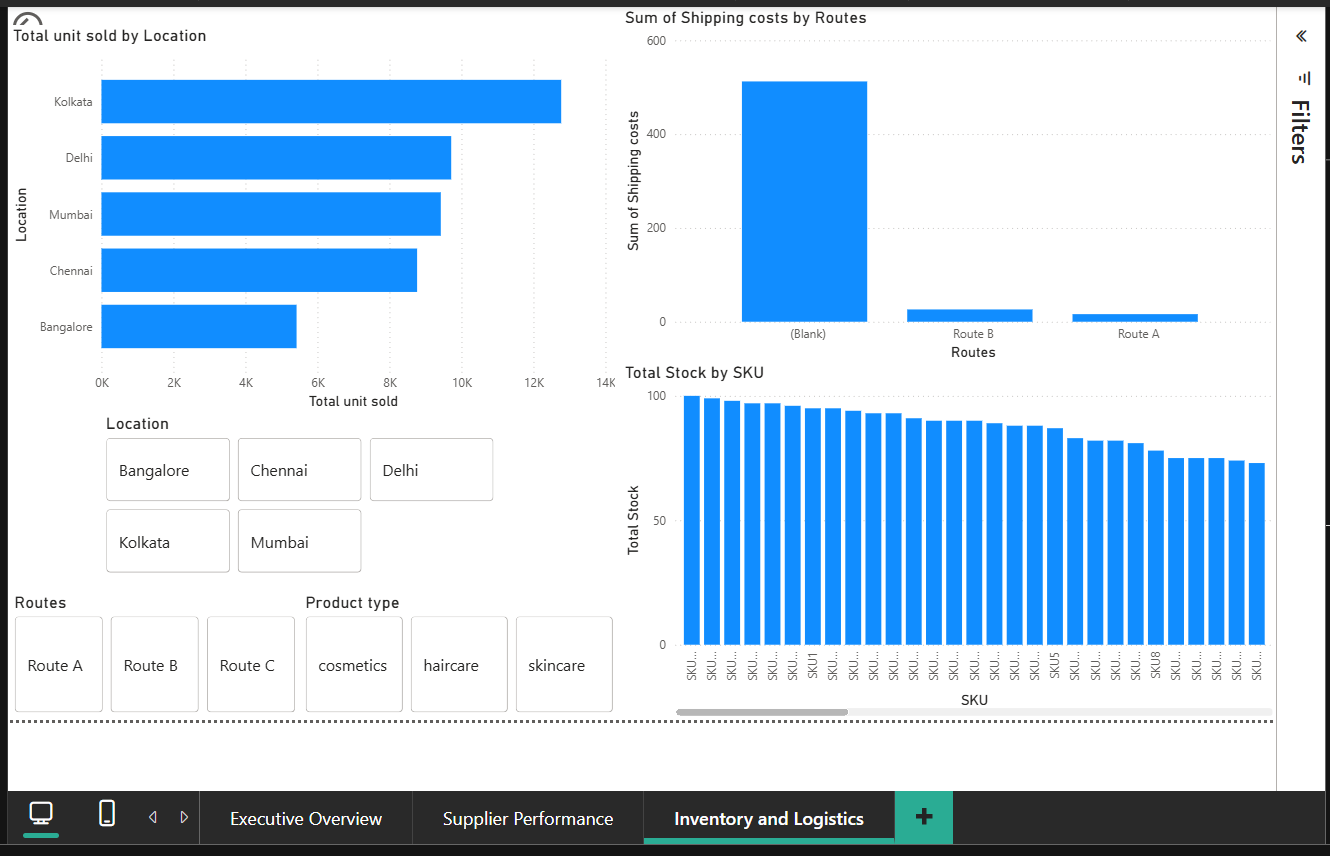

What the dashboard file says about the page in this screenshot:
{"tool":"powerbi","page":{"name":"Inventory and Logistics","canvas":[1280,720],"ordinal":2},"visuals":[{"type":"clusteredColumnChart","fields":{"Category":["Dim_logistics.Routes"],"Y":["Sum(fact_supplychain.Shipping costs)"]},"box":[617.8,0,661.7,360.4],"z":1000},{"type":"clusteredColumnChart","fields":{"Category":["Dim_Product.SKU"],"Y":["fact_supplychain.Total Stock"]},"box":[617.2,358.5,663.9,361.6],"z":2000},{"type":"actionButton","box":[0,0,100,40],"z":3000},{"type":"clusteredBarChart","fields":{"Category":["Dim_location.Location"],"Y":["fact_supplychain.Total unit sold"]},"box":[0,18.2,617.8,392.2],"z":3001},{"type":"advancedSlicerVisual","fields":{"Values":["fact_supplychain.Product type"]},"box":[295.3,590.5,322.5,127.2],"z":3002},{"type":"advancedSlicerVisual","fields":{"Values":["fact_supplychain.Routes"]},"box":[1.5,590.5,293.8,127.2],"z":3003},{"type":"advancedSlicerVisual","fields":{"Values":["fact_supplychain.Location"]},"box":[93.9,410.3,402.8,166.6],"z":3004}]}

Visuals, with their boxes on the page's 1280x720 design canvas (x1, y1, x2, y2). These are canvas units, not pixel positions in the 1330x856 screenshot, which may show the page scaled, cropped or inside an application window:
clusteredColumnChart - Dim_logistics.Routes x Sum(fact_supplychain.Shipping costs): rect(618, 0, 1280, 360)
clusteredColumnChart - Dim_Product.SKU x fact_supplychain.Total Stock: rect(617, 358, 1281, 720)
actionButton: rect(0, 0, 100, 40)
clusteredBarChart - Dim_location.Location x fact_supplychain.Total unit sold: rect(0, 18, 618, 410)
advancedSlicerVisual - fact_supplychain.Product type: rect(295, 590, 618, 718)
advancedSlicerVisual - fact_supplychain.Routes: rect(2, 590, 295, 718)
advancedSlicerVisual - fact_supplychain.Location: rect(94, 410, 497, 577)
